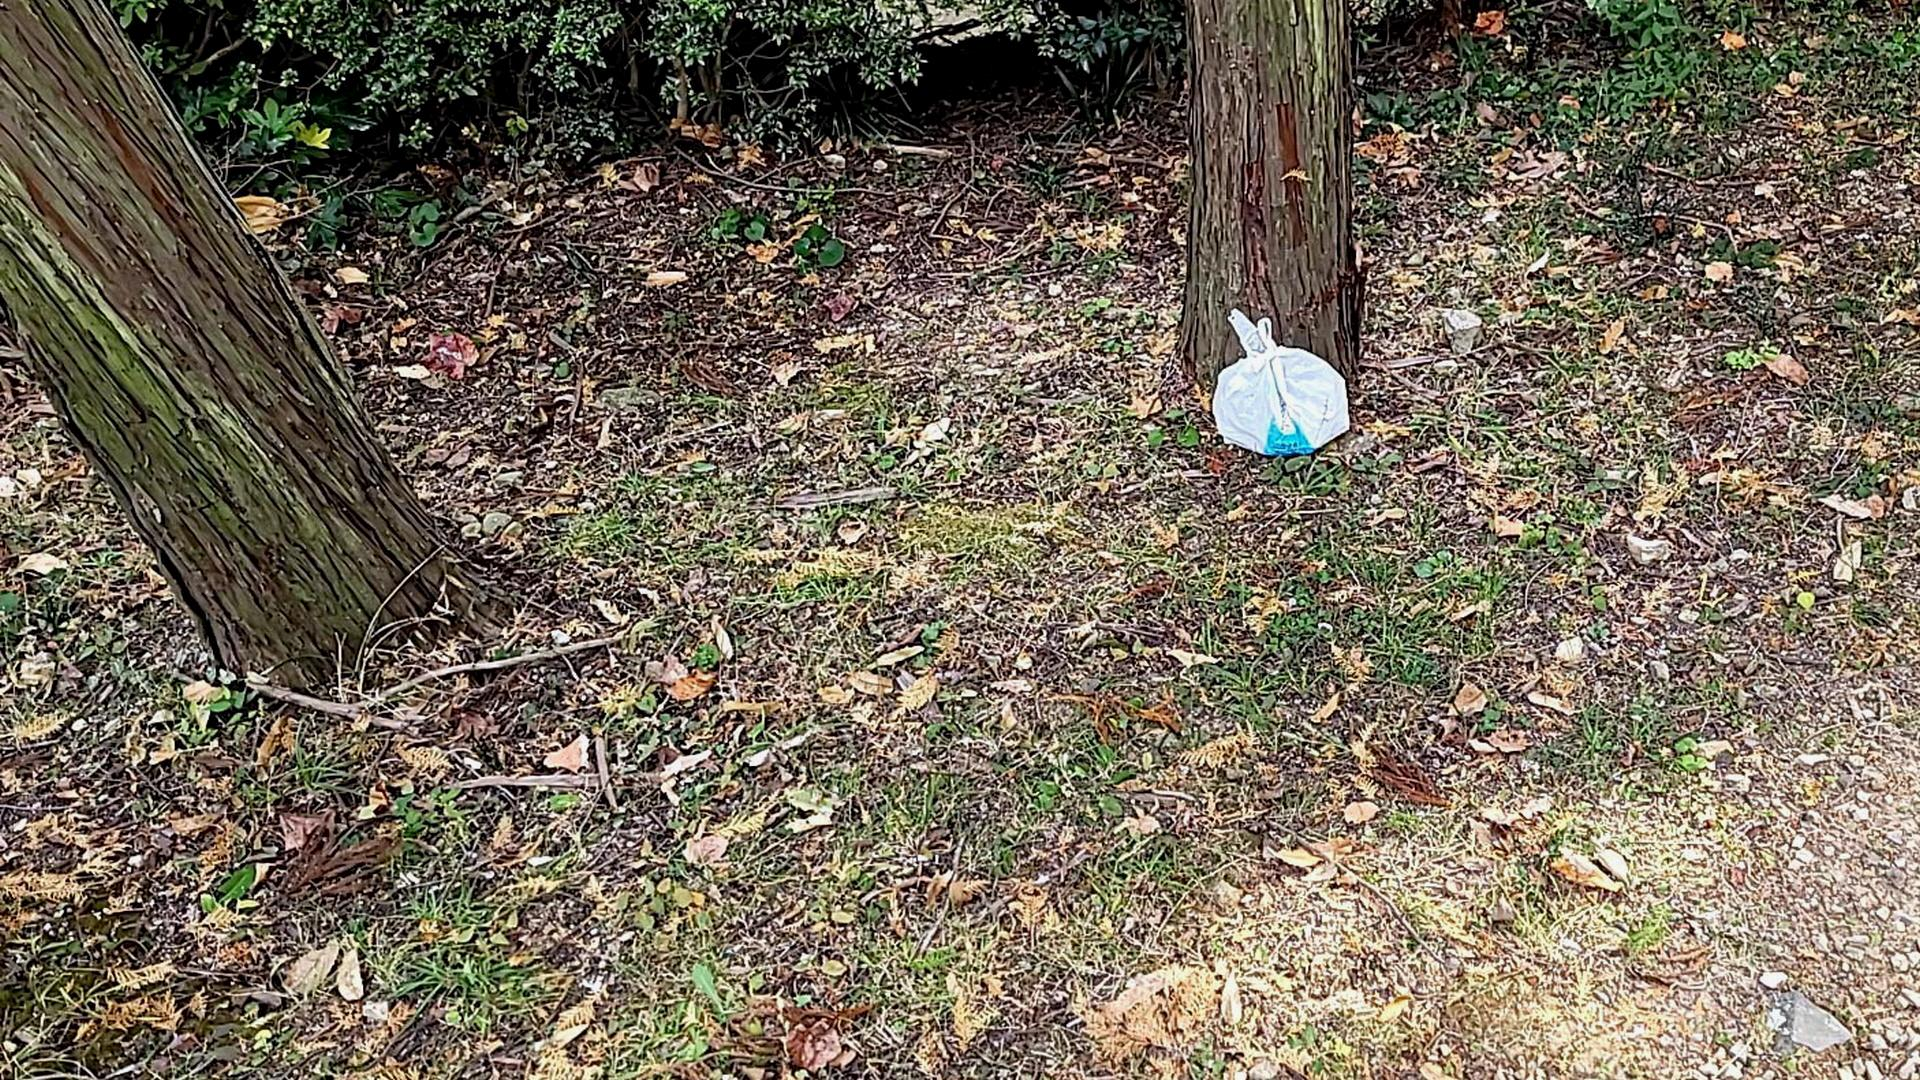white_bag: (1191, 305, 1367, 467)
